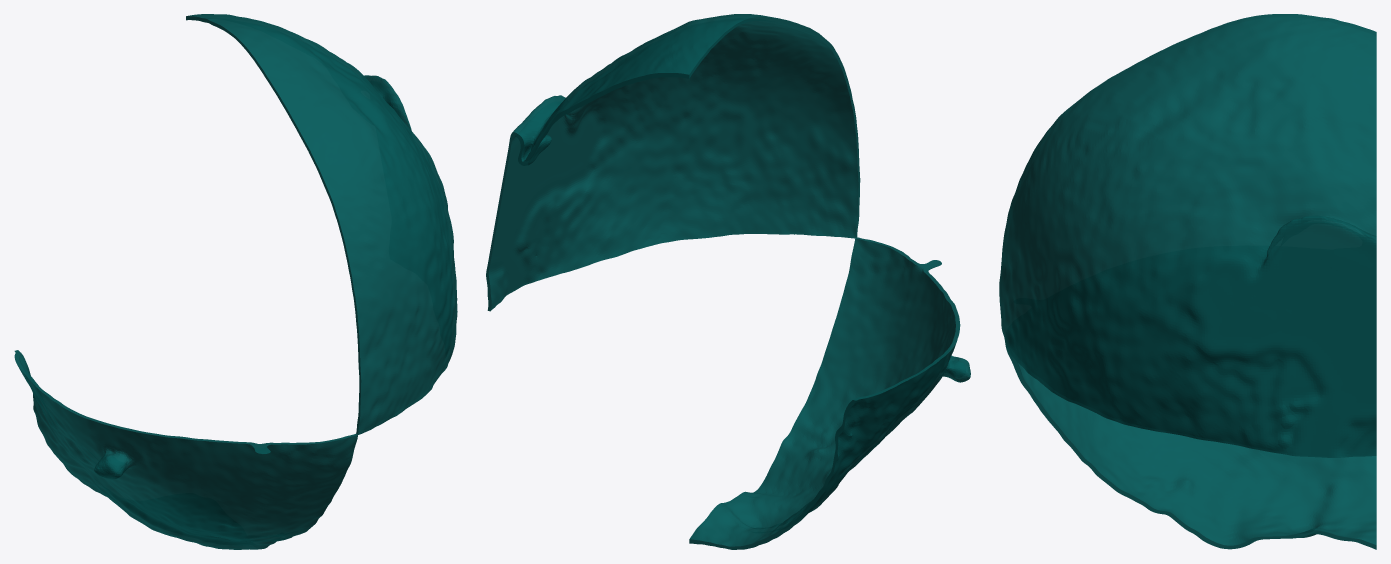
File: Scalp_quadrants.obj
3 renders of one model, left to right at view 1: azimuth 30°, elevation 25°; view 2: azimuth 150°, elevation 25°; view 3: azimuth 270°, elevation 25°, orthographic. The views are drawn at different scales.
Visible parts, largest first — view 1: grp1; view 2: grp1; view 3: grp1.
Part boxes in pixels (box(x1,y1,x2,y2)): grp1: box(14, 14, 457, 549); grp1: box(486, 14, 970, 549); grp1: box(999, 14, 1376, 549).
Size of the model in its own units: 169 by 199 by 127.
